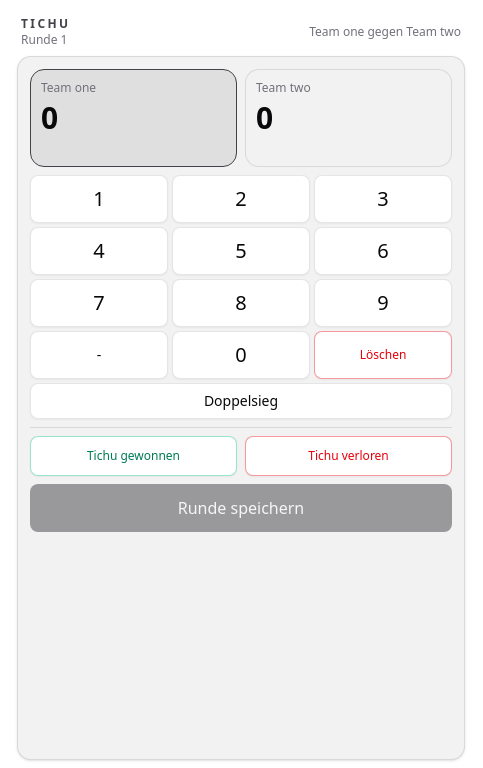
SubmitScore validation and short viewport structure › shows invalid score feedback only after saving
Click the button "1": (99, 199) [30, 175, 168, 223]
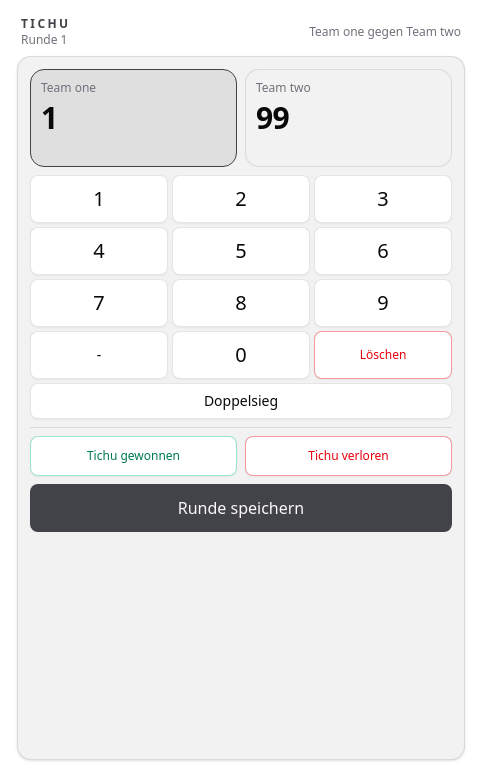
Expected: the text "Beide Teamwerte müssen durch 5 teilbar sein." is not shown
Expected: the button "Runde speichern" is enabled
Click the button "Runde speichern": (241, 508) [30, 484, 452, 532]
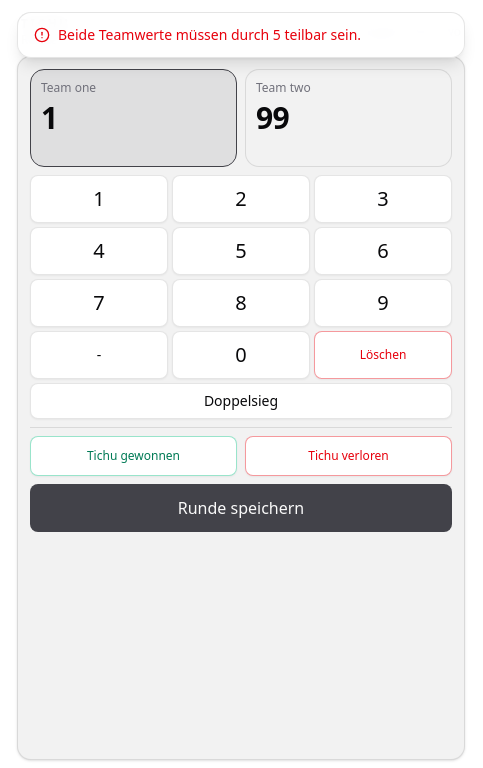
Expected: the text "Beide Teamwerte müssen durch 5 teilbar sein." is shown, [58, 25, 361, 45]
